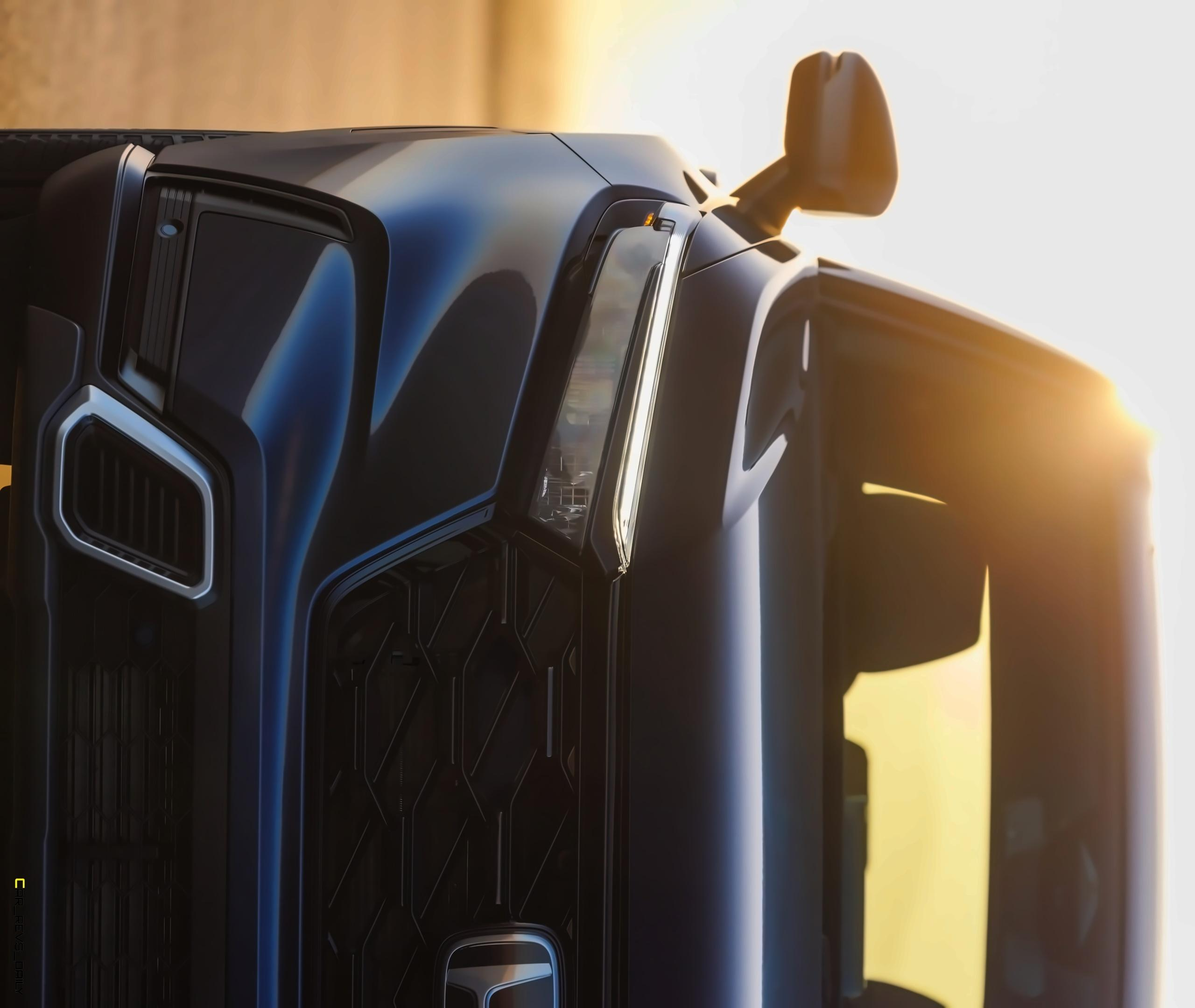Car hood: (610, 220, 852, 1008)
Front bumper: (0, 114, 617, 1008)
Headlight - -R-: (494, 198, 714, 583)
Side mirror - -R-: (717, 41, 899, 247)
